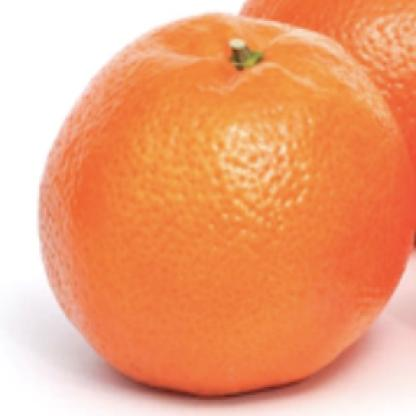fresh: (37, 11, 416, 396)
